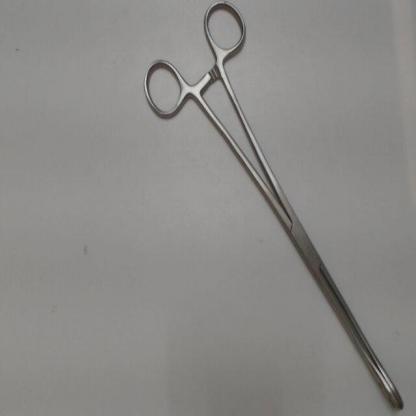Sponge Forceps: (135, 2, 414, 415)
